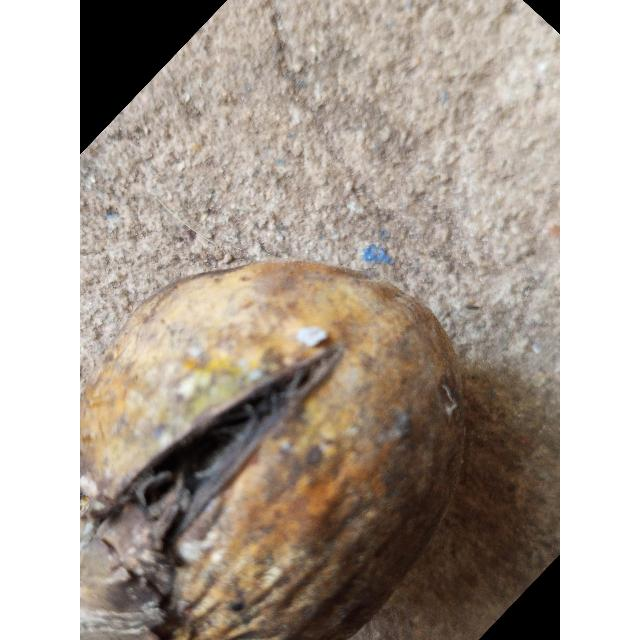damaged: (80, 261, 496, 640)
